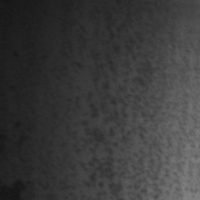pitted_surface: (46, 16, 199, 198)
